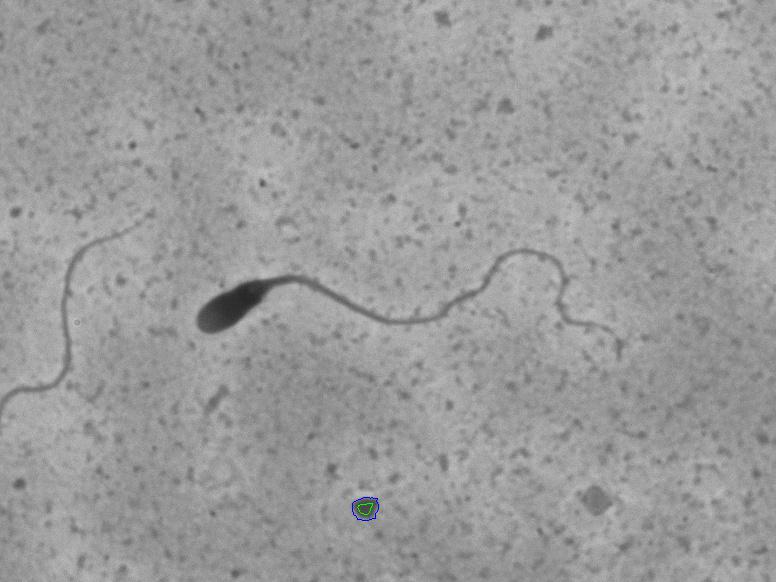Abnormal: (168, 190, 701, 420)
